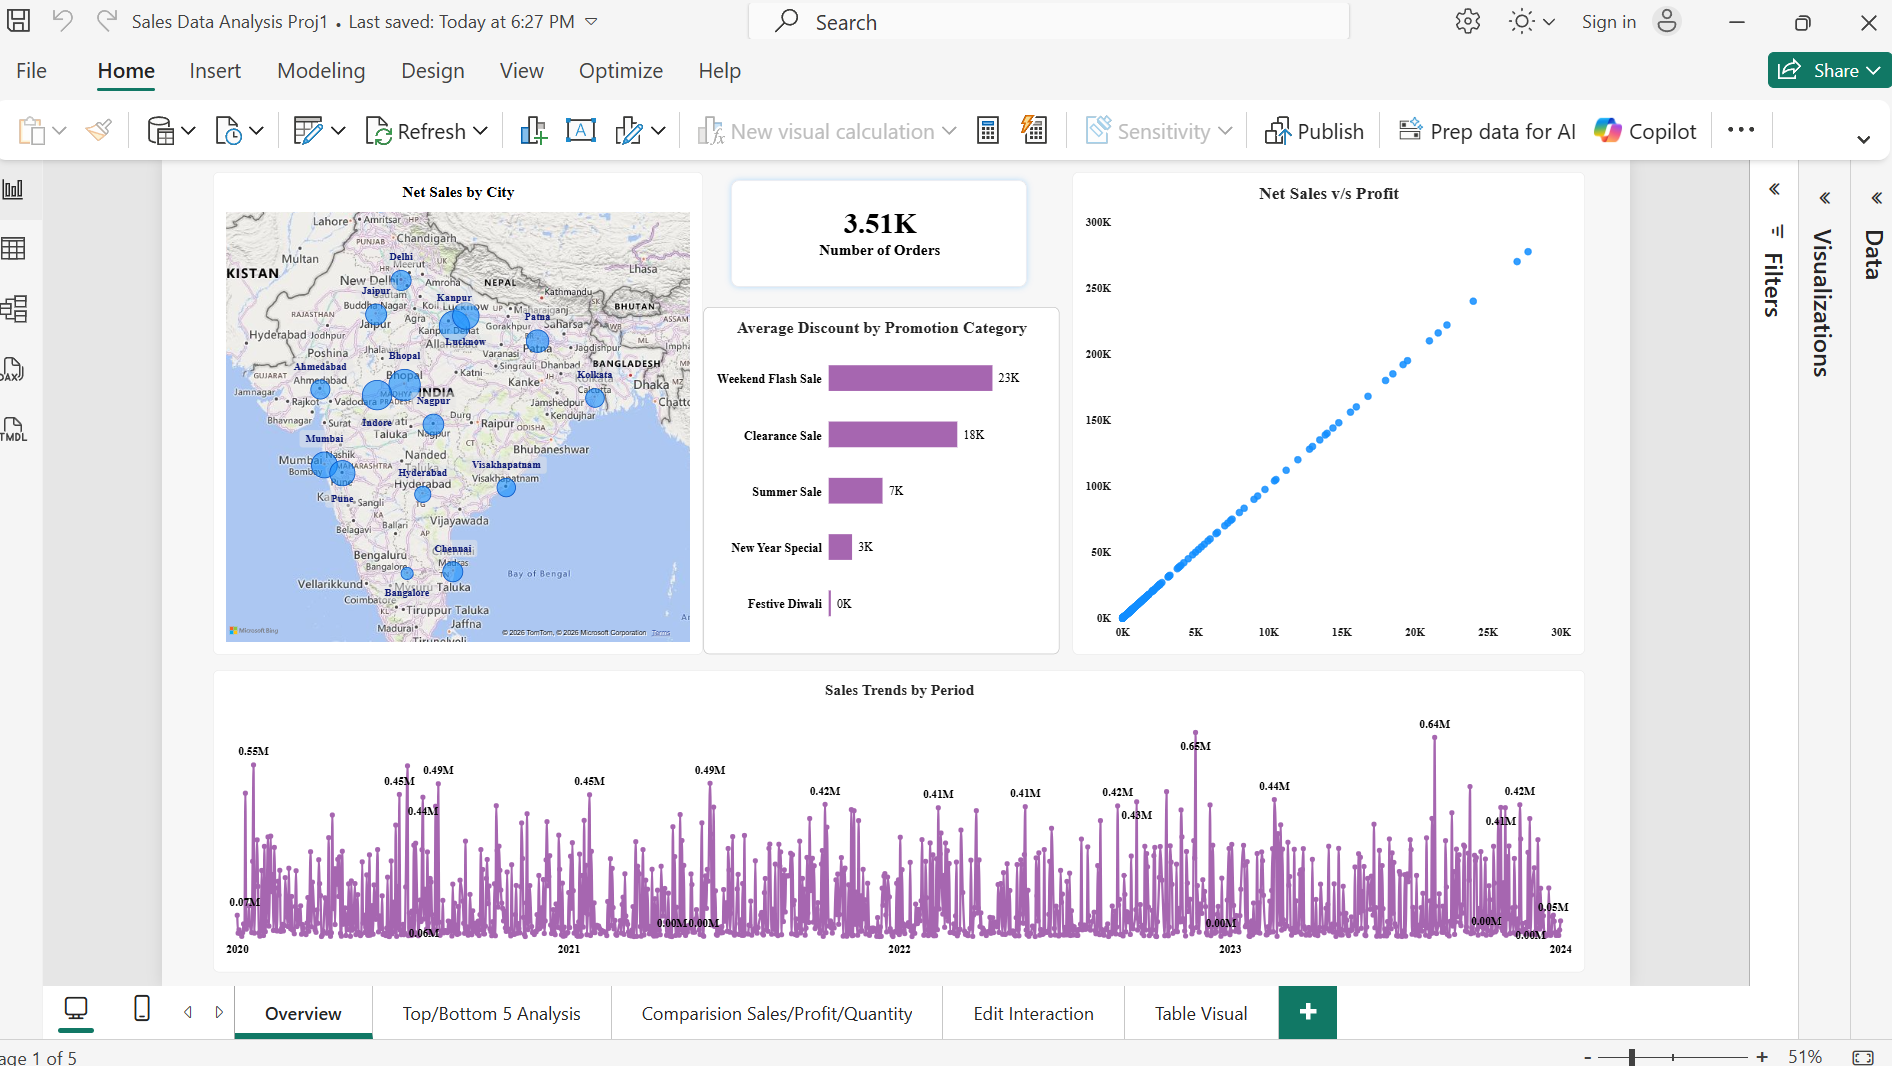

This screenshot's page, from the dashboard's own definition file:
{"tool":"powerbi","page":{"name":"Overview","canvas":[1920,1080],"ordinal":0},"visuals":[{"type":"lineChart","title":"Sales Trends by Period","fields":{"Category":["Fact Table.Date (dd/mm/yyyy).Variation.Date Hierarchy.Year"],"Y":["Sum(Fact Table.Net Sales)"]},"box":[65.9,667.8,1794.3,395.2],"z":0},{"type":"scatterChart","title":"Net Sales v/s Profit","fields":{"X":["Fact Table.Profit"],"Y":["Fact Table.Net Sales"]},"box":[1190.2,15.9,670,631.4],"z":1000},{"type":"barChart","title":"Average Discount by Promotion Category","fields":{"Category":["Dim Promotion.Promotion Name"],"Y":["Avg(Fact Table.Discount)"]},"box":[708.6,193.1,465.6,454.3],"z":2000},{"type":"map","fields":{"Category":["Dim Customers.City"],"Size":["Sum(Fact Table.Net Sales)"]},"box":[65.9,15.9,640.5,631.4],"z":3000},{"type":"cardVisual","fields":{"Data":["Count(Fact Table.Order ID)"]},"box":[733.6,15.9,408.8,161.3],"z":4000}]}

Visuals, with their boxes on the page's 1920x1080 design canvas (x1, y1, x2, y2). These are canvas units, not pixel positions in the 1892x1066 screenshot, which may show the page scaled, cropped or inside an application window:
"Sales Trends by Period" lineChart: bbox=(66, 668, 1860, 1063)
"Net Sales v/s Profit" scatterChart: bbox=(1190, 16, 1860, 647)
"Average Discount by Promotion Category" barChart: bbox=(709, 193, 1174, 647)
map - Dim Customers.City x Sum(Fact Table.Net Sales): bbox=(66, 16, 706, 647)
cardVisual - Count(Fact Table.Order ID): bbox=(734, 16, 1142, 177)
